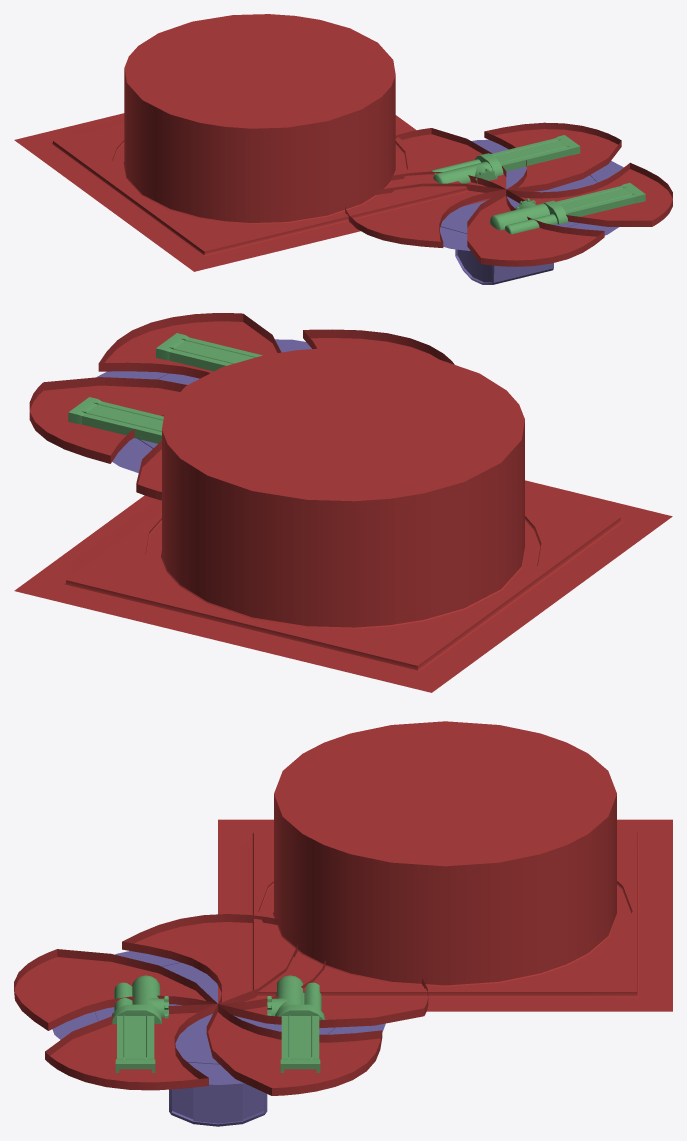
Rendered from SM_Turret.fbx.
3 renders of one model, top to bottom at view 1: azimuth 30°, elevation 25°; view 2: azimuth 150°, elevation 25°; view 3: azimuth 270°, elevation 25°, orthographic. The views are drawn at different scales.
Parts seen in each view (by area): view 1: Cieling, Barrel, Door_3, Door_5, Door_2, Door_4, Base, Door_1, Head; view 2: Cieling, Door_5, Door_4, Barrel, Door_3, Base, Door_1; view 3: Cieling, Door_3, Door_5, Barrel, Door_4, Door_2, Base, Door_1, Head.
Part boxes in pixels (bbox=[...]): Cieling: bbox=[14, 14, 490, 271]; Barrel: bbox=[431, 135, 645, 234]; Door_3: bbox=[467, 189, 604, 266]; Door_5: bbox=[484, 122, 621, 191]; Door_2: bbox=[345, 183, 505, 247]; Door_4: bbox=[506, 162, 672, 226]; Base: bbox=[440, 139, 623, 250]; Door_1: bbox=[391, 128, 506, 189]; Head: bbox=[455, 249, 553, 284]; Cieling: bbox=[14, 347, 672, 692]; Door_5: bbox=[29, 377, 187, 463]; Door_4: bbox=[98, 313, 281, 378]; Barrel: bbox=[68, 333, 262, 443]; Door_3: bbox=[303, 329, 454, 364]; Base: bbox=[97, 339, 311, 472]; Door_1: bbox=[136, 441, 161, 500]; Cieling: bbox=[218, 721, 672, 1011]; Door_3: bbox=[14, 949, 217, 1030]; Door_5: bbox=[206, 1004, 382, 1095]; Barrel: bbox=[112, 975, 325, 1072]; Door_4: bbox=[45, 1004, 217, 1090]; Door_2: bbox=[122, 914, 297, 1003]; Base: bbox=[52, 951, 385, 1084]; Door_1: bbox=[218, 960, 428, 1028]; Head: bbox=[169, 1083, 267, 1126].
Bounding box in the file's own units: 432 × 158 × 435.
